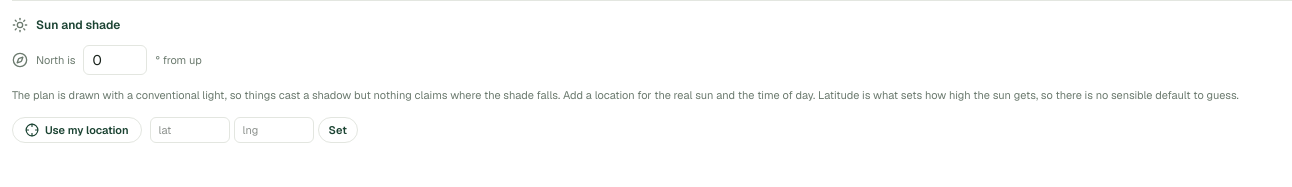
using the browser location › names the refusal AND the way round it
Click the button with test id "use-my-location" at (77, 130), box [12,117,142,143]
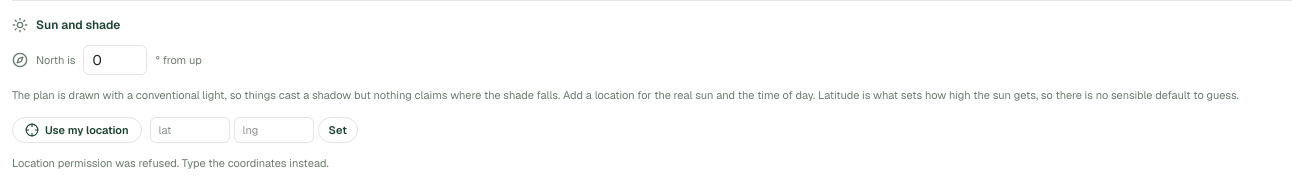
Expected: the message with test id "sun-problem" shows "refused", [12,156,329,170]
Expected: the message with test id "sun-problem" shows "Type the coordinates", [12,156,329,170]
